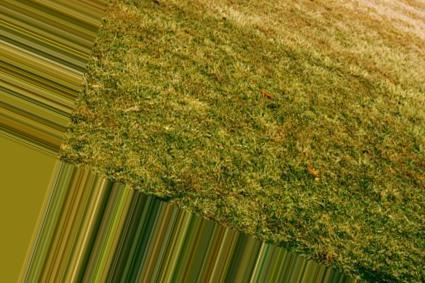patch: (297, 20, 385, 61), (330, 82, 396, 125), (393, 13, 423, 58), (237, 17, 277, 35), (358, 65, 395, 80), (404, 66, 420, 85)
